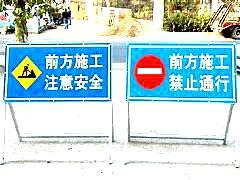sign: (127, 41, 236, 102), (6, 44, 112, 101)
